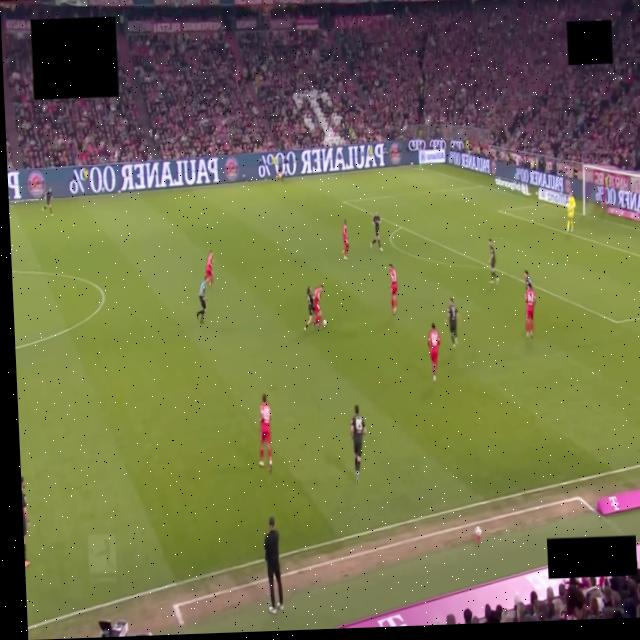player: (350, 404, 365, 483), (259, 394, 271, 472), (21, 476, 29, 567), (302, 286, 316, 332), (428, 323, 439, 381), (446, 298, 458, 348), (524, 285, 535, 338), (369, 211, 382, 251), (389, 263, 398, 315), (488, 238, 497, 283), (313, 285, 322, 327), (566, 191, 575, 232), (42, 189, 52, 215), (205, 251, 212, 287), (343, 220, 348, 260), (524, 270, 532, 289), (323, 321, 326, 327)
referee: (196, 279, 206, 323)
